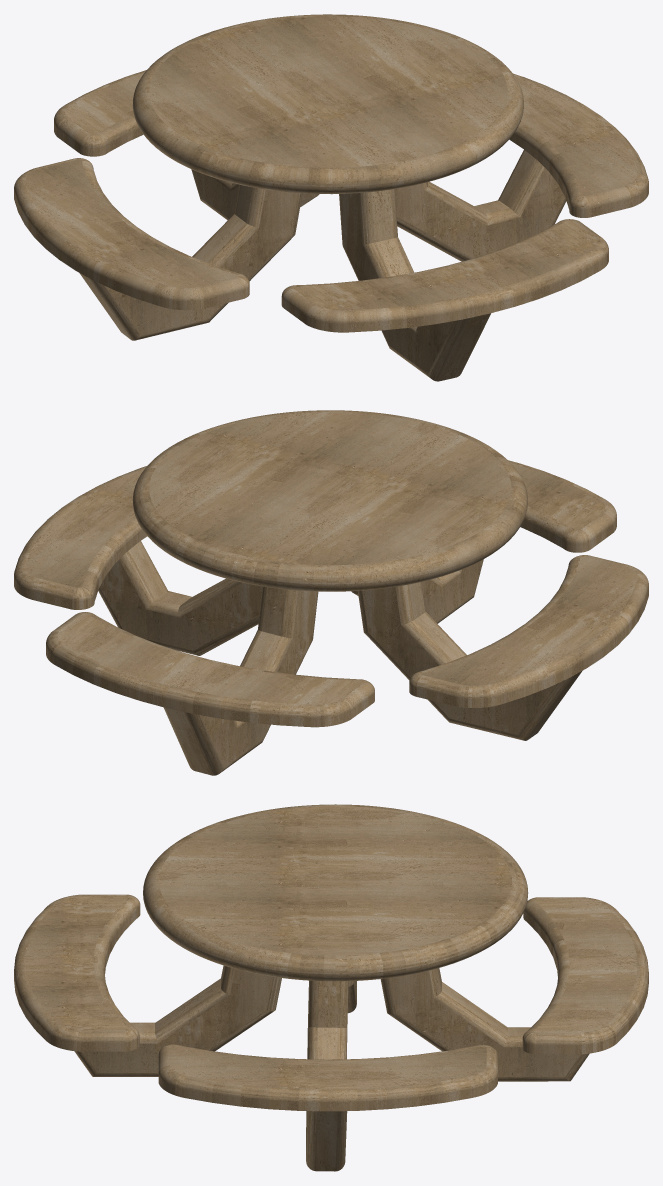
3 views of the same model, one above another, from view 1: azimuth 30°, elevation 25°; view 2: azimuth 150°, elevation 25°; view 3: azimuth 270°, elevation 25° (orthographic). The views are drawn at different scales.
Parts seen in each view (by area): view 1: mesh5_mesh5-geometry, mesh3_mesh3-geometry, mesh7_mesh7-geometry, mesh1_mesh1-geometry, mesh8_mesh8-geometry, mesh6_mesh6-geometry, mesh4_mesh4-geometry, mesh9_mesh9-geometry, mesh2_mesh2-geometry; view 2: mesh5_mesh5-geometry, mesh9_mesh9-geometry, mesh7_mesh7-geometry, mesh1_mesh1-geometry, mesh8_mesh8-geometry, mesh6_mesh6-geometry, mesh2_mesh2-geometry, mesh3_mesh3-geometry, mesh4_mesh4-geometry; view 3: mesh5_mesh5-geometry, mesh1_mesh1-geometry, mesh3_mesh3-geometry, mesh9_mesh9-geometry, mesh2_mesh2-geometry, mesh4_mesh4-geometry, mesh8_mesh8-geometry.
Boxes of the visible parts, left/top/right/bottom form: mesh5_mesh5-geometry: left=132, top=14, right=523, bottom=194; mesh3_mesh3-geometry: left=281, top=219, right=608, bottom=332; mesh7_mesh7-geometry: left=14, top=158, right=249, bottom=310; mesh1_mesh1-geometry: left=509, top=73, right=648, bottom=217; mesh8_mesh8-geometry: left=395, top=149, right=566, bottom=261; mesh6_mesh6-geometry: left=79, top=185, right=302, bottom=340; mesh4_mesh4-geometry: left=339, top=189, right=490, bottom=381; mesh9_mesh9-geometry: left=54, top=70, right=146, bottom=156; mesh2_mesh2-geometry: left=191, top=169, right=319, bottom=220; mesh5_mesh5-geometry: left=132, top=410, right=527, bottom=591; mesh9_mesh9-geometry: left=46, top=612, right=374, bottom=727; mesh7_mesh7-geometry: left=409, top=555, right=648, bottom=707; mesh1_mesh1-geometry: left=14, top=466, right=147, bottom=609; mesh8_mesh8-geometry: left=98, top=541, right=262, bottom=655; mesh6_mesh6-geometry: left=357, top=582, right=581, bottom=740; mesh2_mesh2-geometry: left=163, top=586, right=318, bottom=775; mesh3_mesh3-geometry: left=508, top=460, right=616, bottom=552; mesh4_mesh4-geometry: left=351, top=559, right=483, bottom=623; mesh5_mesh5-geometry: left=143, top=804, right=528, bottom=981; mesh1_mesh1-geometry: left=158, top=1044, right=497, bottom=1111; mesh3_mesh3-geometry: left=14, top=894, right=140, bottom=1051; mesh9_mesh9-geometry: left=522, top=897, right=648, bottom=1054; mesh2_mesh2-geometry: left=380, top=968, right=589, bottom=1081; mesh4_mesh4-geometry: left=74, top=965, right=281, bottom=1076; mesh8_mesh8-geometry: left=306, top=980, right=348, bottom=1171.
Bounding box in the file's own units: 0.6766 × 0.2343 × 0.6981.
